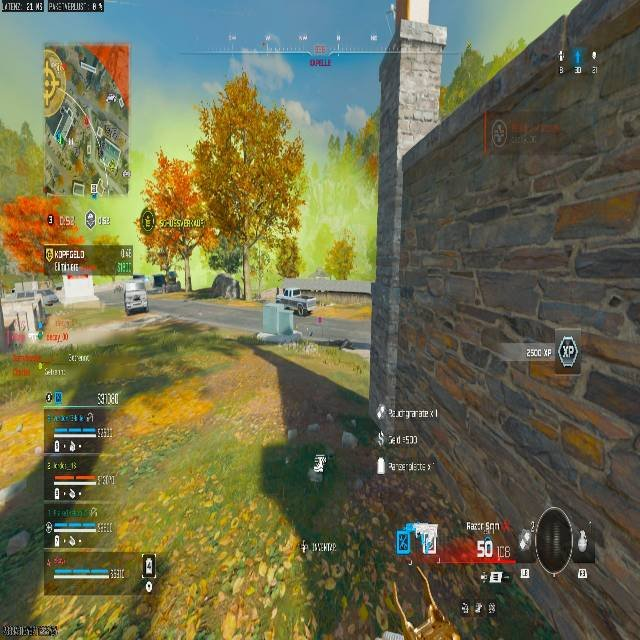player: (163, 269, 178, 293)
